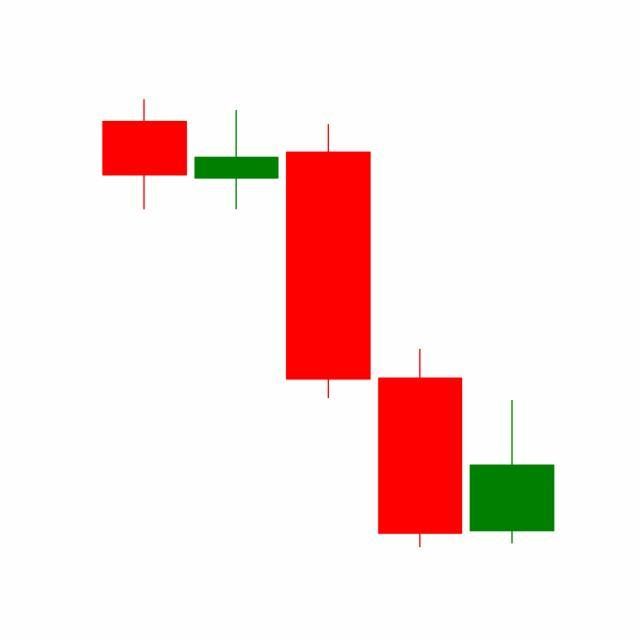Three Outside Up-Down: (190, 106, 467, 549)
